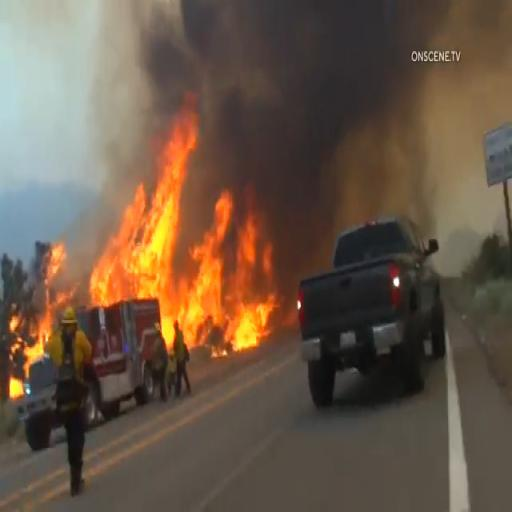fire: (86, 128, 186, 310), (211, 193, 289, 347), (13, 323, 51, 371)
smoke: (206, 19, 388, 133)
